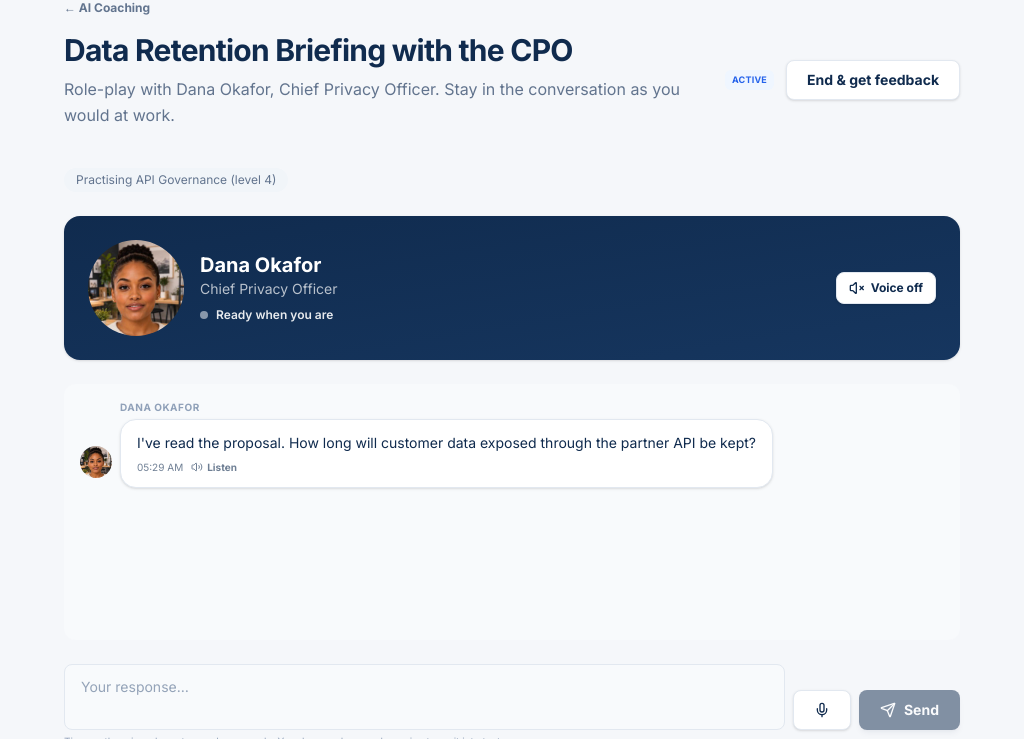
Test: AI Coaching › runs an interactive role-play and shows evidence-based practice feedback
The image size is (1024, 739).
Expected: the text "How long will customer data exposed through the partner API be kept" is shown, top-left (137, 434), bottom-right (756, 451)
Type "We delete it after 90 days under the retention policy" into the text box named "Message" at (424, 697), box top-left (64, 664), bottom-right (785, 730)
Then press Enter
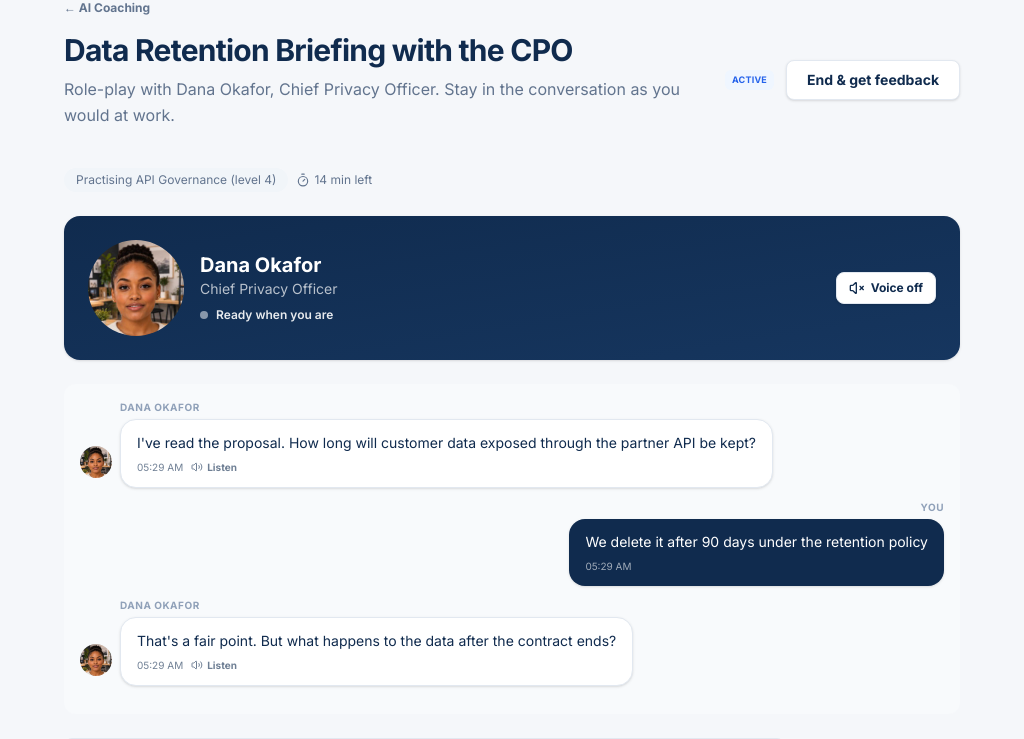
Now the text "what happens to the data after the contract ends" is shown, box top-left (137, 632), bottom-right (616, 649)
Click the button "End & get feedback" at (873, 80), box top-left (786, 60), bottom-right (960, 100)
(page scrolled)
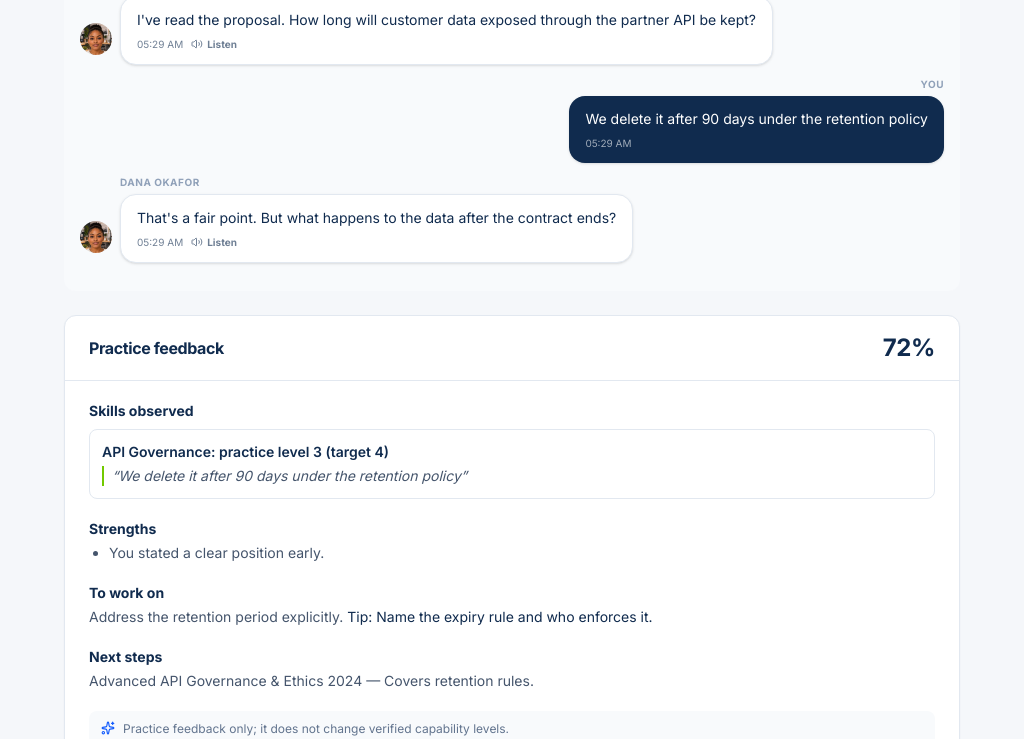
Now the text "Practice feedback" is shown, box top-left (89, 338), bottom-right (224, 358)
Now the text "72%" is shown, box top-left (883, 332), bottom-right (935, 364)
Now the text "“We delete it after 90 days under the retention policy”" is shown, box top-left (102, 466), bottom-right (922, 486)
